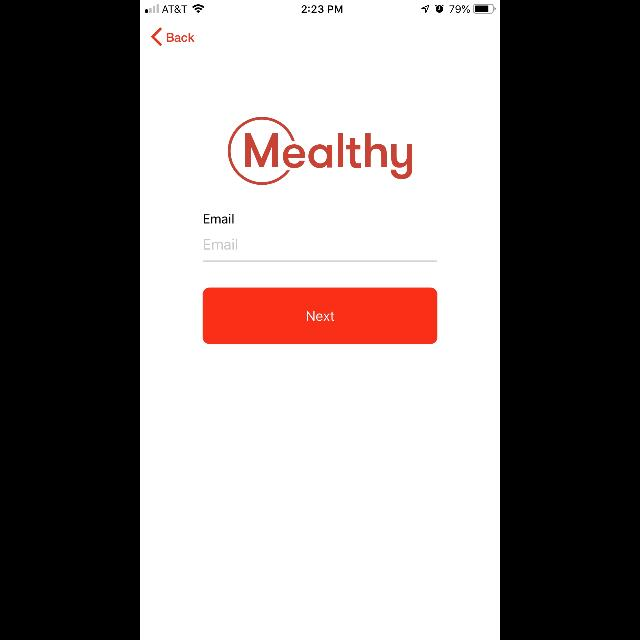icon: (152, 28, 162, 46)
image: (228, 117, 412, 185)
input: (202, 238, 438, 262)
text: (205, 238, 238, 250), (204, 214, 234, 224), (167, 34, 195, 42)
textbutton: (202, 288, 438, 344)
uppertaskbar: (140, 0, 500, 14)
